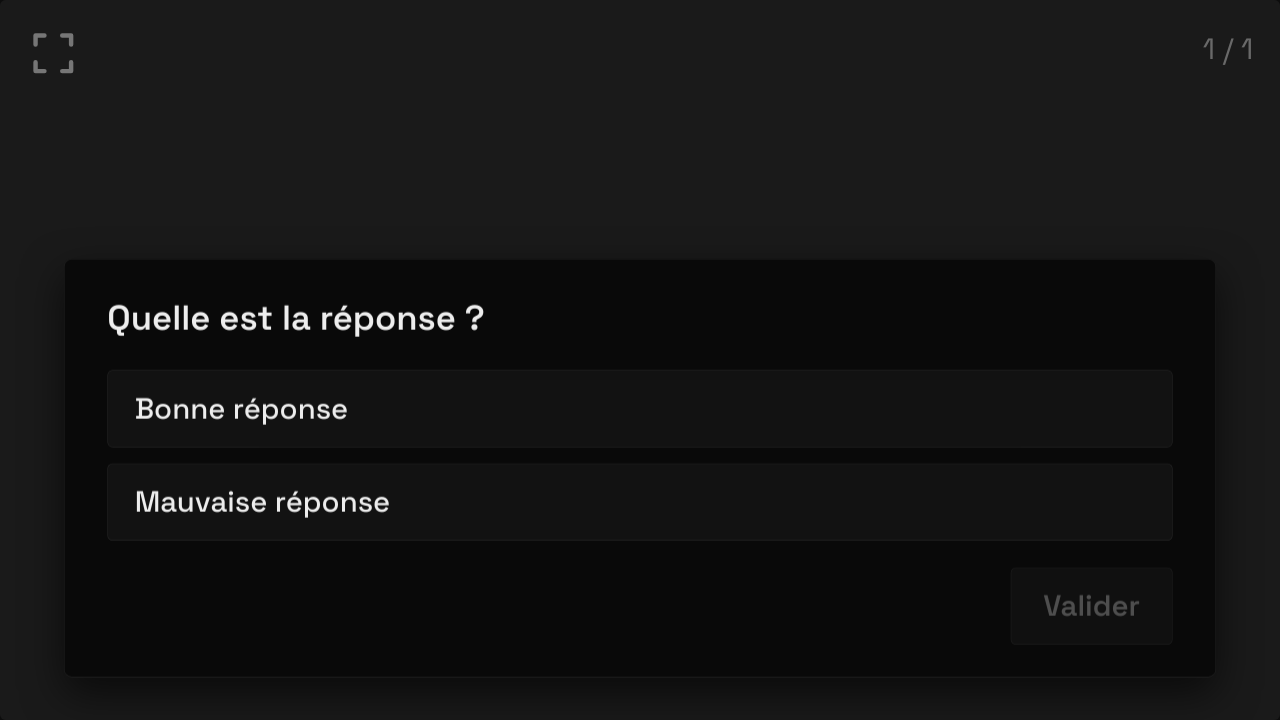
Test: ScenePlayer — quiz › affiche le feedback après validation
This screenshot has width=1280, height=720.
Click the button "Bonne réponse" at (241, 409), box [107,370,1173,447]
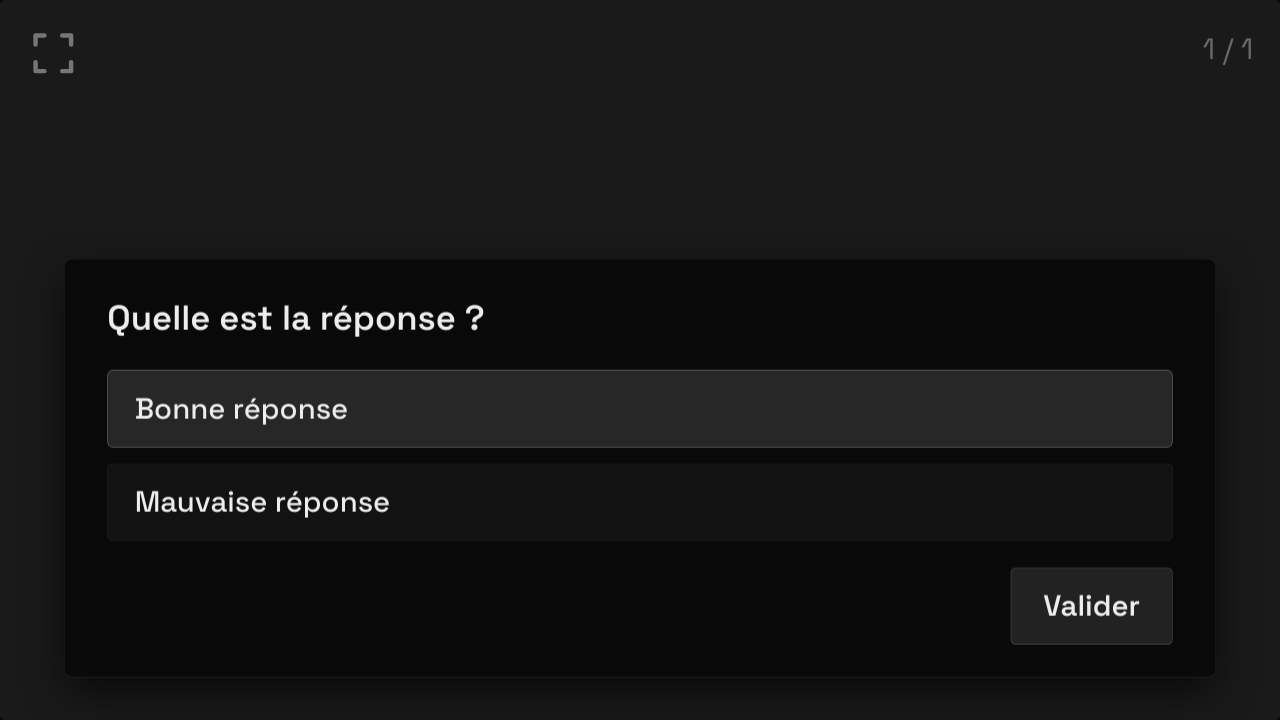
Click the button "Valider" at (1092, 606), box [1011,567,1173,645]
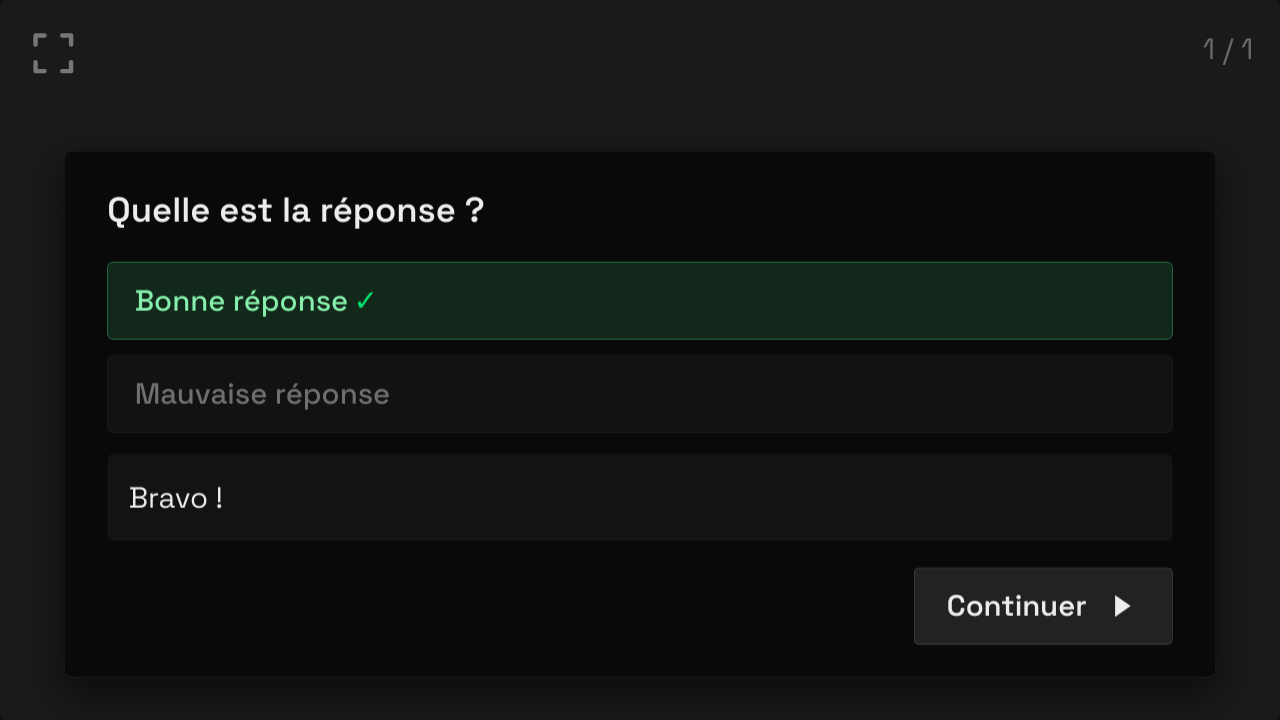
expect the text "Bravo !" is shown: met, box [107,454,1173,541]
